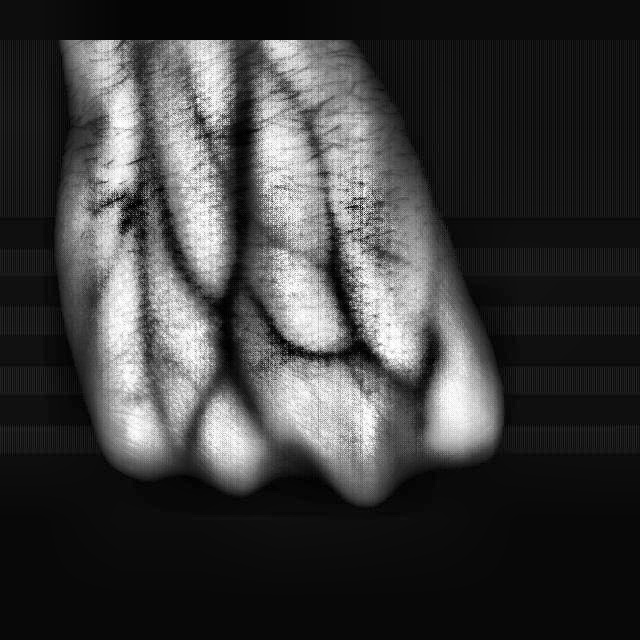Vein: (223, 83, 257, 278)
